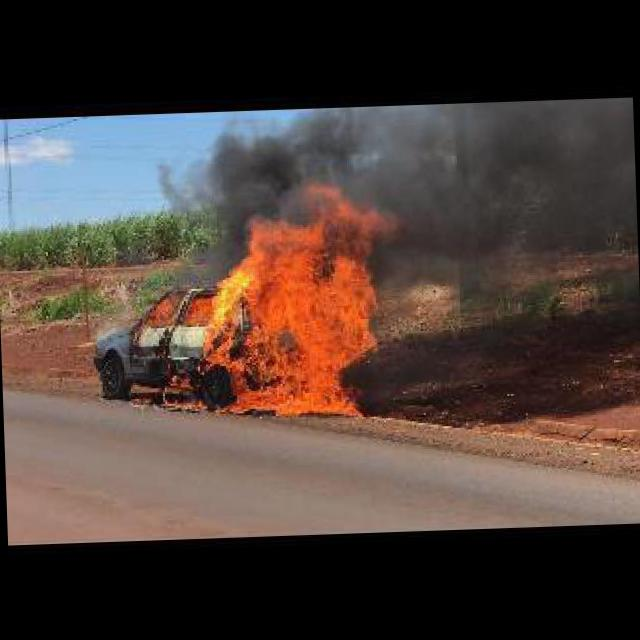Fire: (121, 178, 402, 422)
Smoke: (391, 96, 638, 268), (169, 105, 384, 220)
